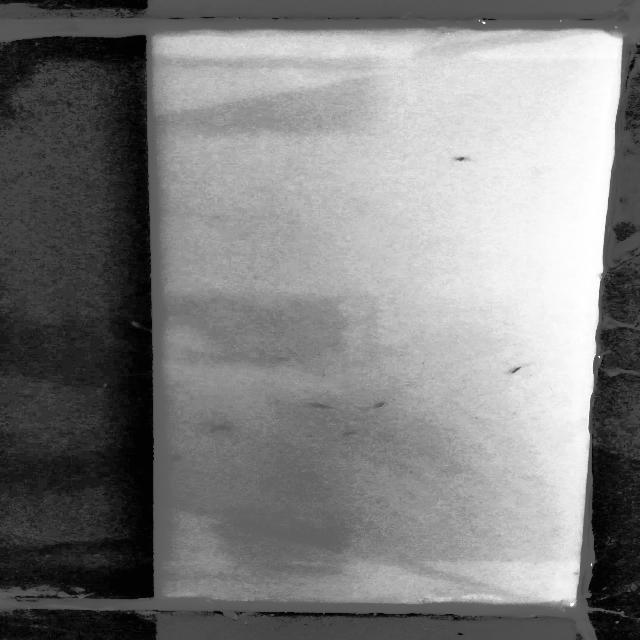shrimp: (362, 397, 400, 410), (504, 362, 534, 378), (204, 421, 236, 432), (311, 400, 332, 411), (451, 154, 474, 163), (342, 430, 358, 437)
